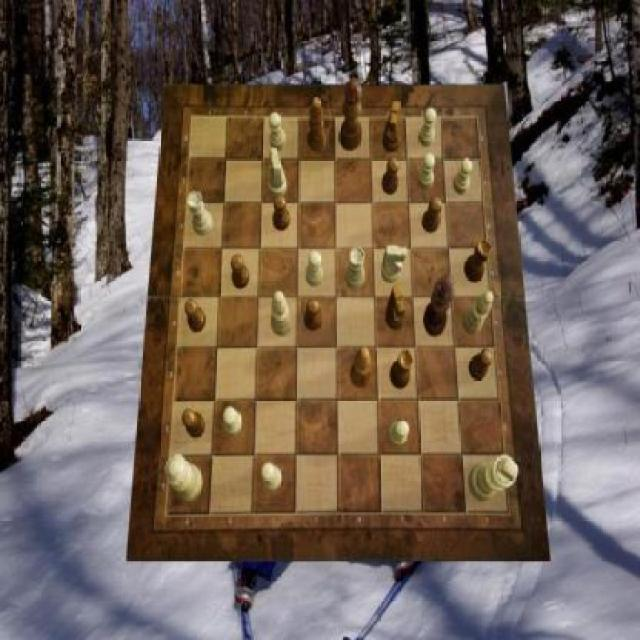bishop: (308, 97, 327, 151), (349, 348, 372, 389)
black-bishop: (423, 274, 455, 336)
black-king: (383, 101, 403, 154), (386, 283, 406, 329)
black-knight: (185, 298, 207, 332), (423, 197, 443, 233), (470, 348, 492, 380), (231, 254, 250, 288), (382, 157, 399, 195), (183, 411, 206, 438), (274, 196, 291, 232), (305, 298, 322, 332)
black-pawn: (340, 77, 363, 151)
black-queen: (465, 238, 492, 282), (391, 349, 414, 389)
black-rook: (463, 290, 494, 334), (270, 291, 292, 336)
white-bishop: (468, 454, 518, 500)
white-king: (268, 148, 288, 198), (382, 245, 408, 282)
white-knight: (454, 157, 474, 195), (417, 152, 435, 190), (419, 108, 436, 148), (269, 112, 286, 151), (306, 251, 323, 287), (262, 463, 282, 491), (223, 408, 242, 437), (388, 421, 408, 447)
white-pawn: (165, 454, 202, 501)
white-queen: (188, 191, 214, 236), (346, 248, 366, 290)
